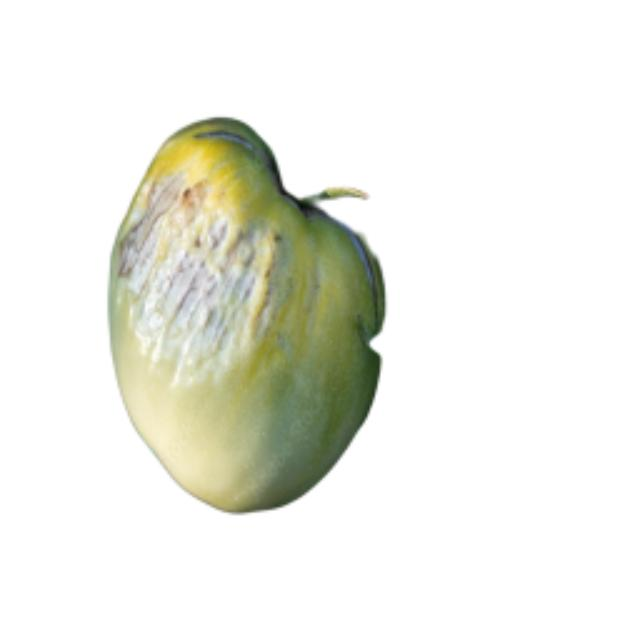defect: (102, 105, 393, 523)
